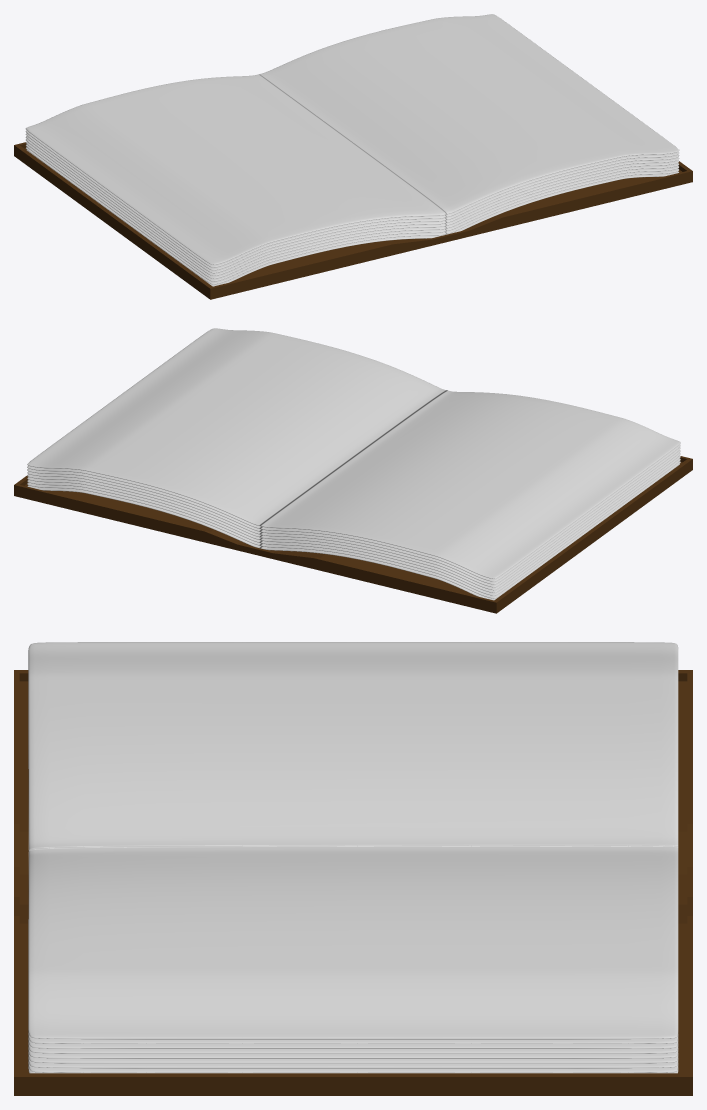
The model's file is Book.fbx.
3 views of the same model, one above another, from view 1: azimuth 30°, elevation 25°; view 2: azimuth 150°, elevation 25°; view 3: azimuth 270°, elevation 25° (orthographic). The views are drawn at different scales.
Visible parts, largest first — view 1: Plane, Cube; view 2: Plane, Cube; view 3: Plane, Cube.
Part boxes in pixels (x1,y1,x2,y2): Plane: (25,14,679,286); Cube: (14,142,692,299); Plane: (27,328,680,600); Cube: (14,456,692,613); Plane: (28,642,678,1073); Cube: (14,670,692,1095).
Size of the model in its own units: 147 by 11.7 by 103.
